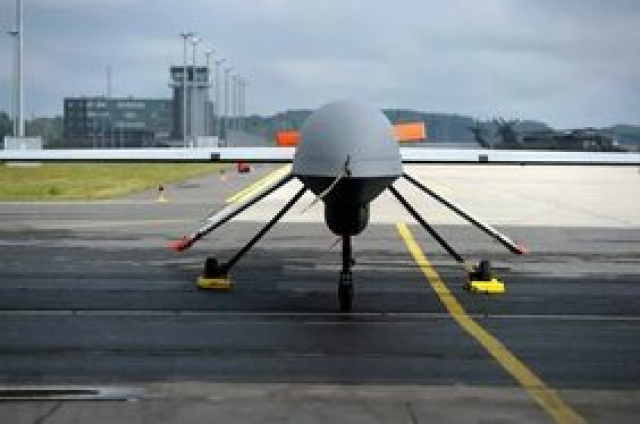military drone: (0, 98, 640, 311)
